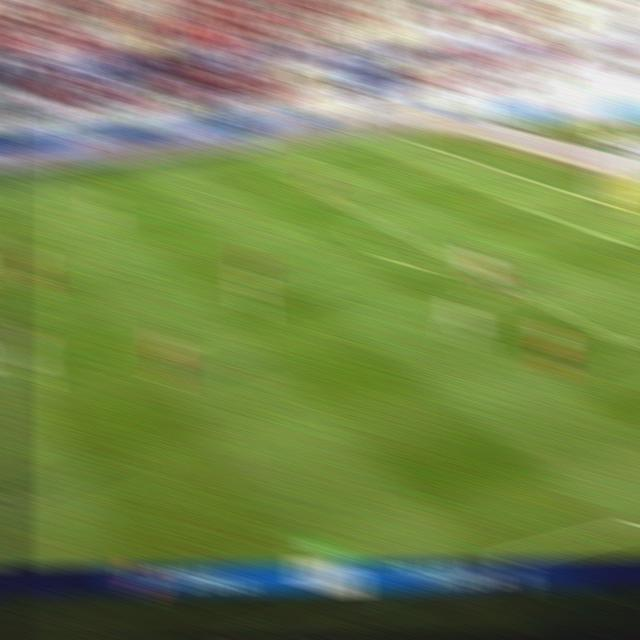bigarea_bottom_inner: (610, 328, 640, 357)
bigarea_top_inner: (295, 176, 325, 197)
bigarea_top_outter: (468, 154, 497, 172)
corner: (393, 130, 425, 147)
smallarea_top_inner: (487, 188, 518, 206)
smallarea_top_outter: (543, 176, 574, 198)
top_arc_area_intersection: (362, 210, 393, 231)
